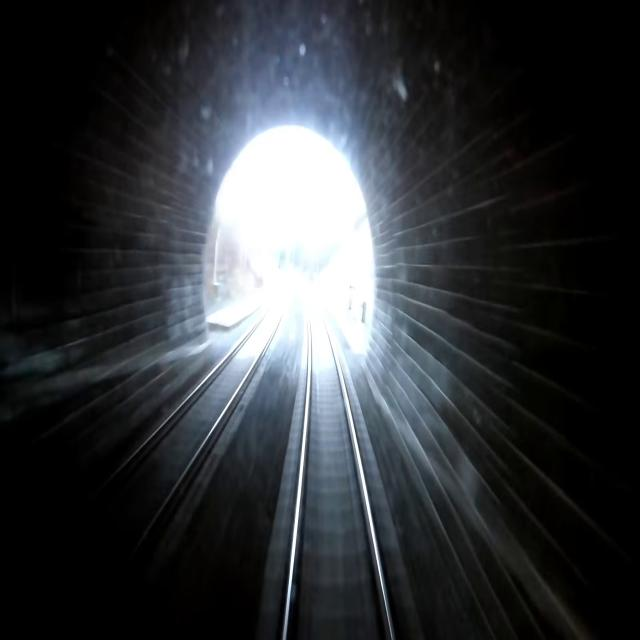rail-track: (38, 303, 281, 639), (287, 306, 391, 639)
